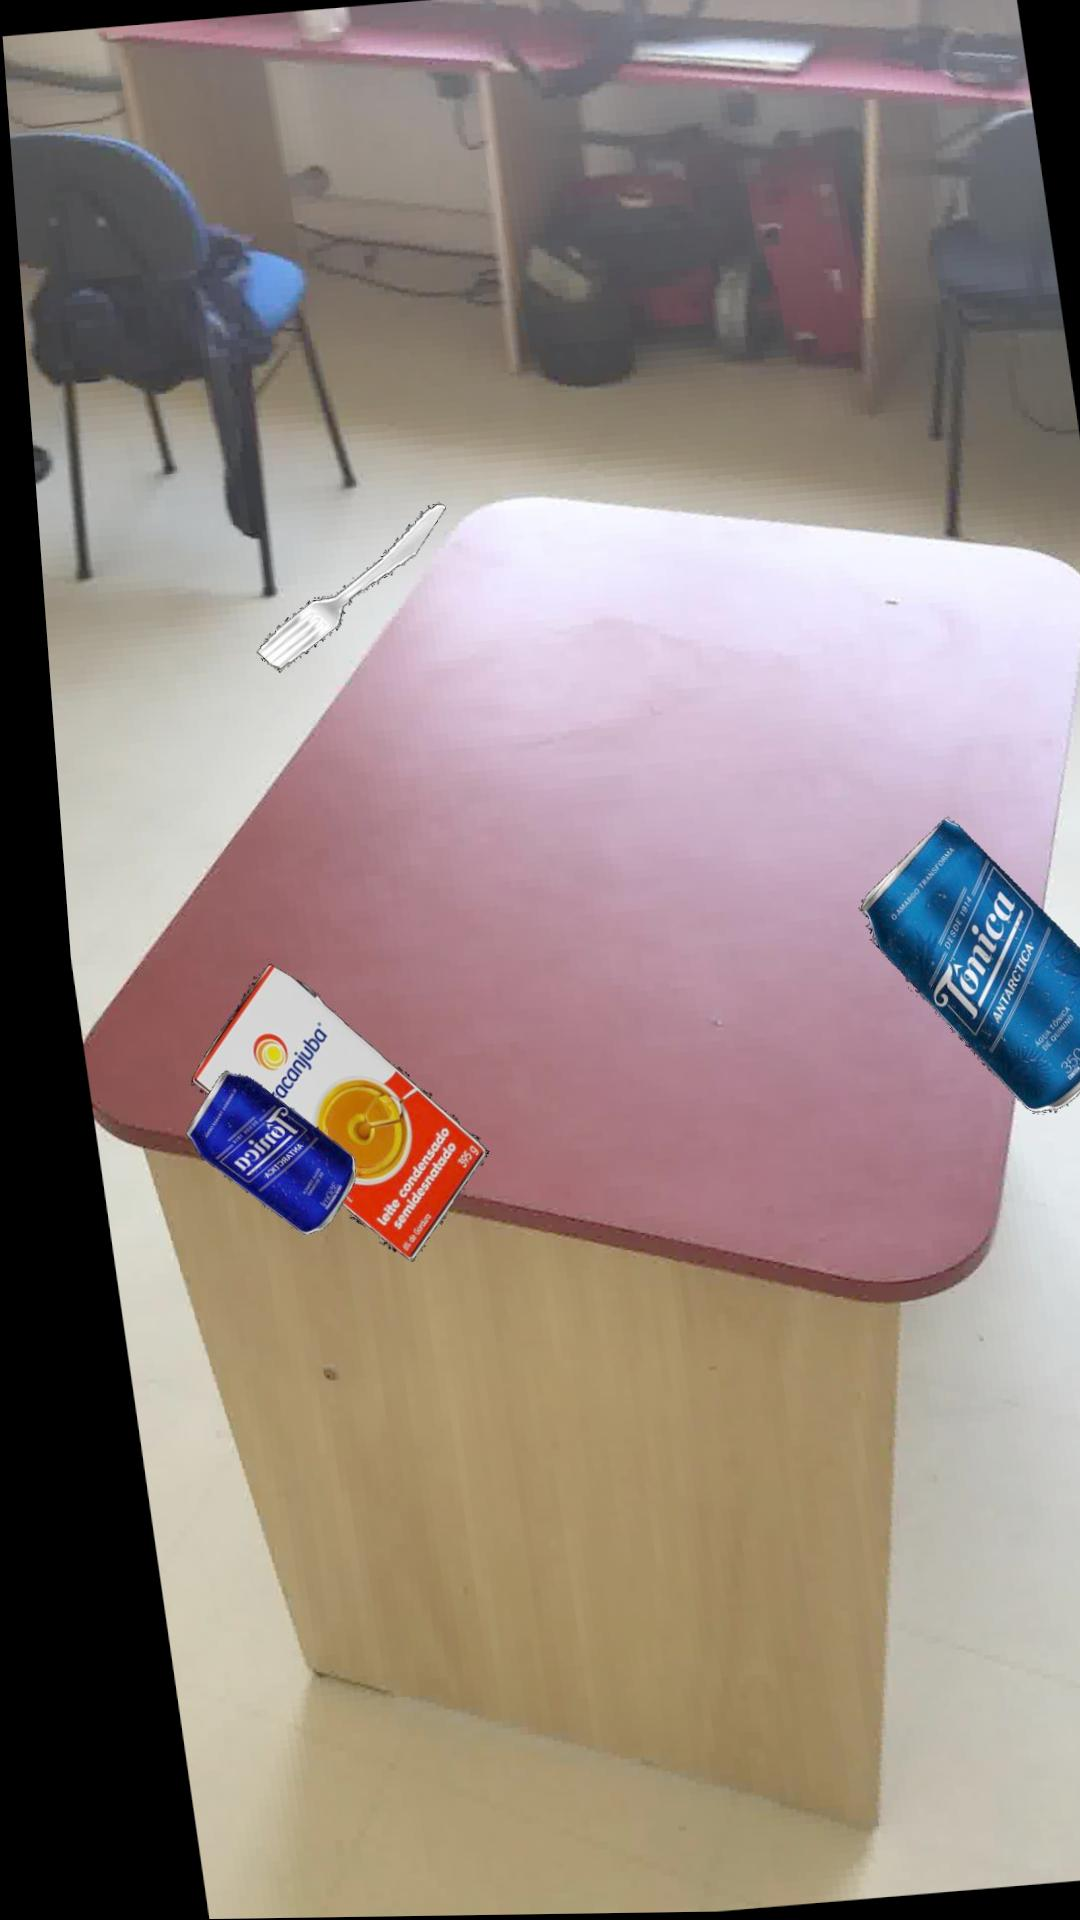fork: (244, 502, 435, 669)
tonic: (841, 818, 1080, 1113), (165, 1069, 335, 1233)
